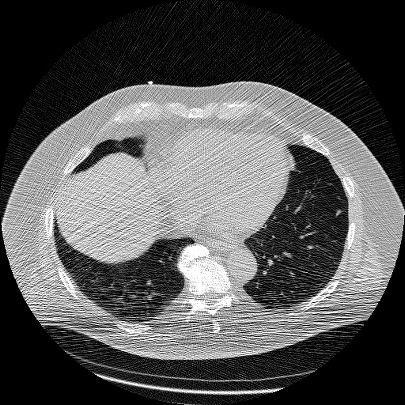nodule: (336, 210, 340, 214)
